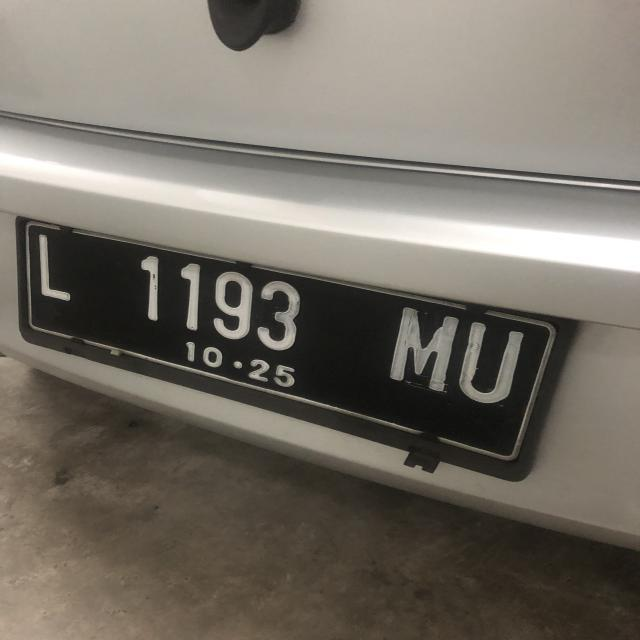1: (137, 251, 168, 321), (178, 262, 208, 332)
3: (256, 281, 300, 349)
9: (211, 272, 255, 342)
L: (34, 232, 74, 306)
M: (389, 305, 459, 394)
U: (458, 328, 531, 404)
